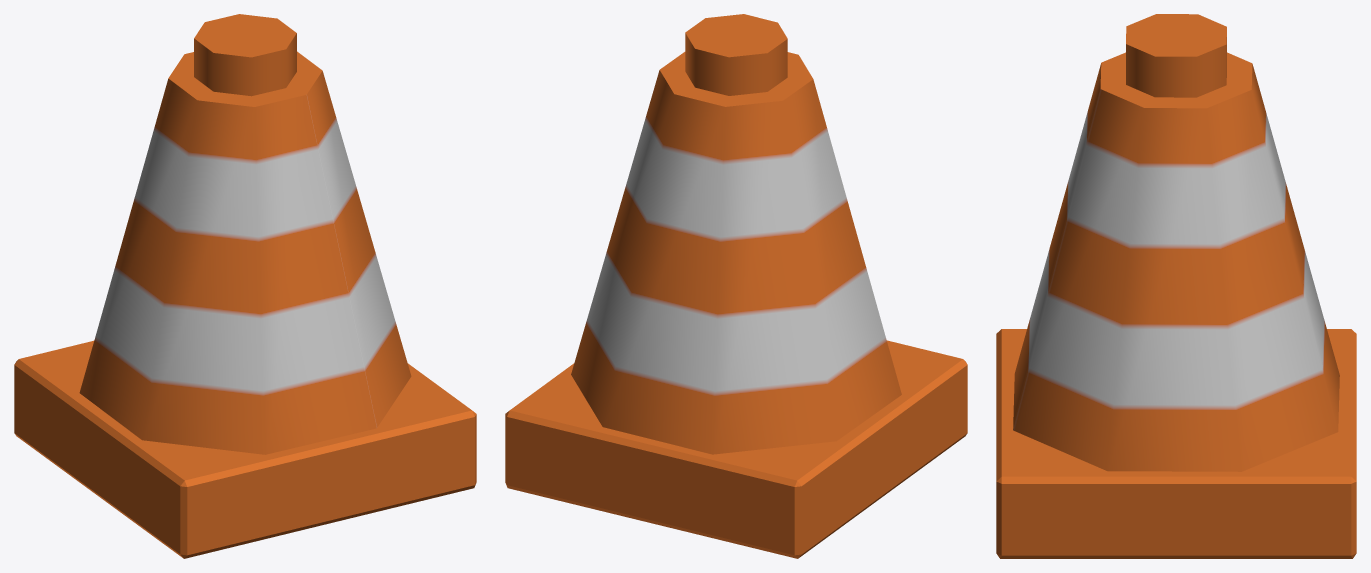
Rendered from Road_column.FBX.
3 renders of one model, left to right at view 1: azimuth 30°, elevation 25°; view 2: azimuth 150°, elevation 25°; view 3: azimuth 270°, elevation 25°, orthographic. The views are drawn at different scales.
Parts seen in each view (by area): view 1: Road_column; view 2: Road_column; view 3: Road_column.
Part boxes in pixels (<box>): Road_column: <box>14,14,476,558</box>; Road_column: <box>505,14,967,558</box>; Road_column: <box>996,14,1356,558</box>.
Size of the model in its own units: 200 by 275 by 200.
